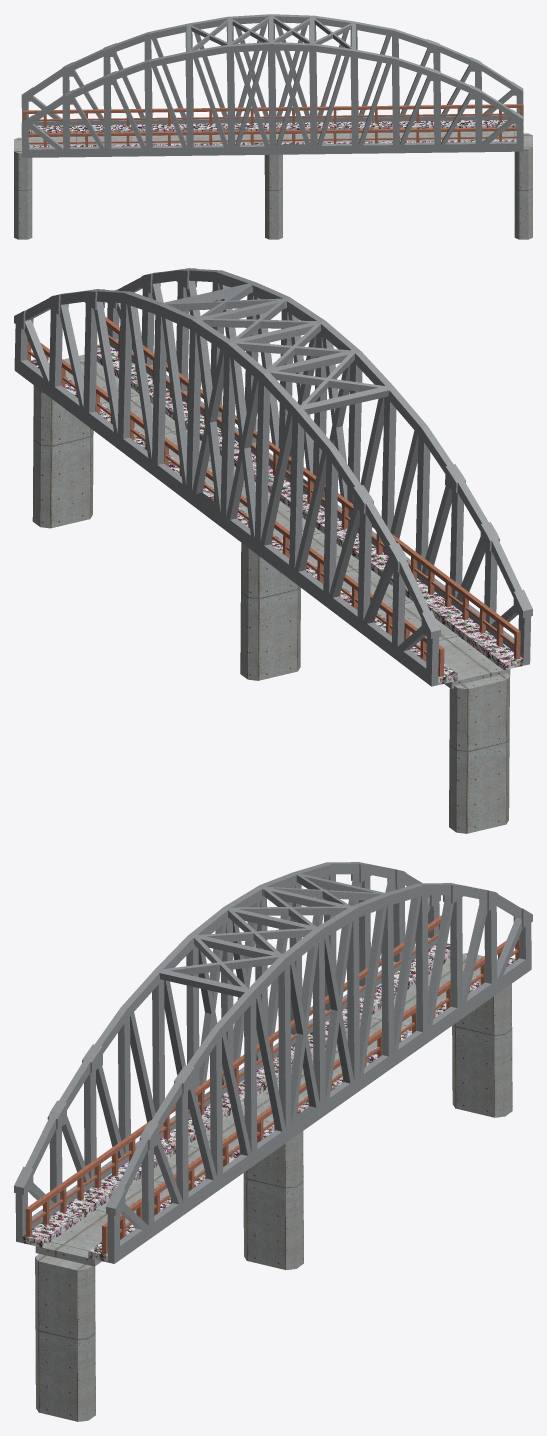
The model's file is GMLID_BUI30683_572_6686.dae.
3 renders of one model, top to bottom at view 1: azimuth 30°, elevation 25°; view 2: azimuth 150°, elevation 25°; view 3: azimuth 270°, elevation 25°, orthographic. The views are drawn at different scales.
Bounding box in the file's own units: 61.81 × 41.08 × 29.7.
Materials: 4 (4 with a texture image).
